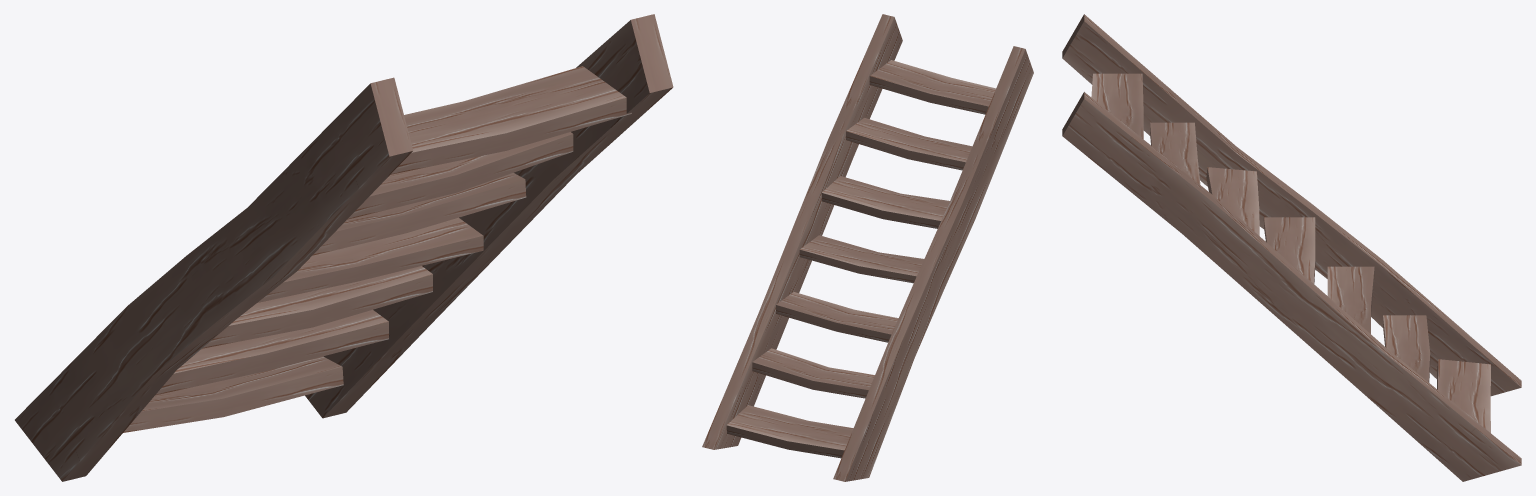
3 renders of one model, left to right at view 1: azimuth 30°, elevation 25°; view 2: azimuth 150°, elevation 25°; view 3: azimuth 270°, elevation 25°, orthographic. The views are drawn at different scales.
Visible parts, largest first — view 1: submesh_0; view 2: submesh_0; view 3: submesh_0.
Part boxes in pixels (x1,y1,x2,y2): submesh_0: (15,14,673,481); submesh_0: (702,14,1033,481); submesh_0: (1062,14,1521,481).
Size of the model in its own units: 1.44 by 3.01 by 3.27.
1 material, 1 textured.
